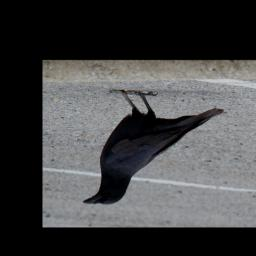Crow: (82, 89, 225, 205)
